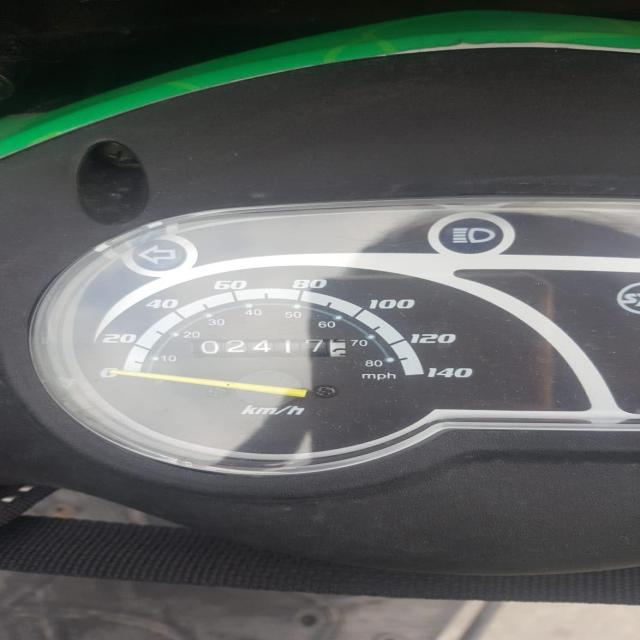odometer: (190, 338, 350, 358)
